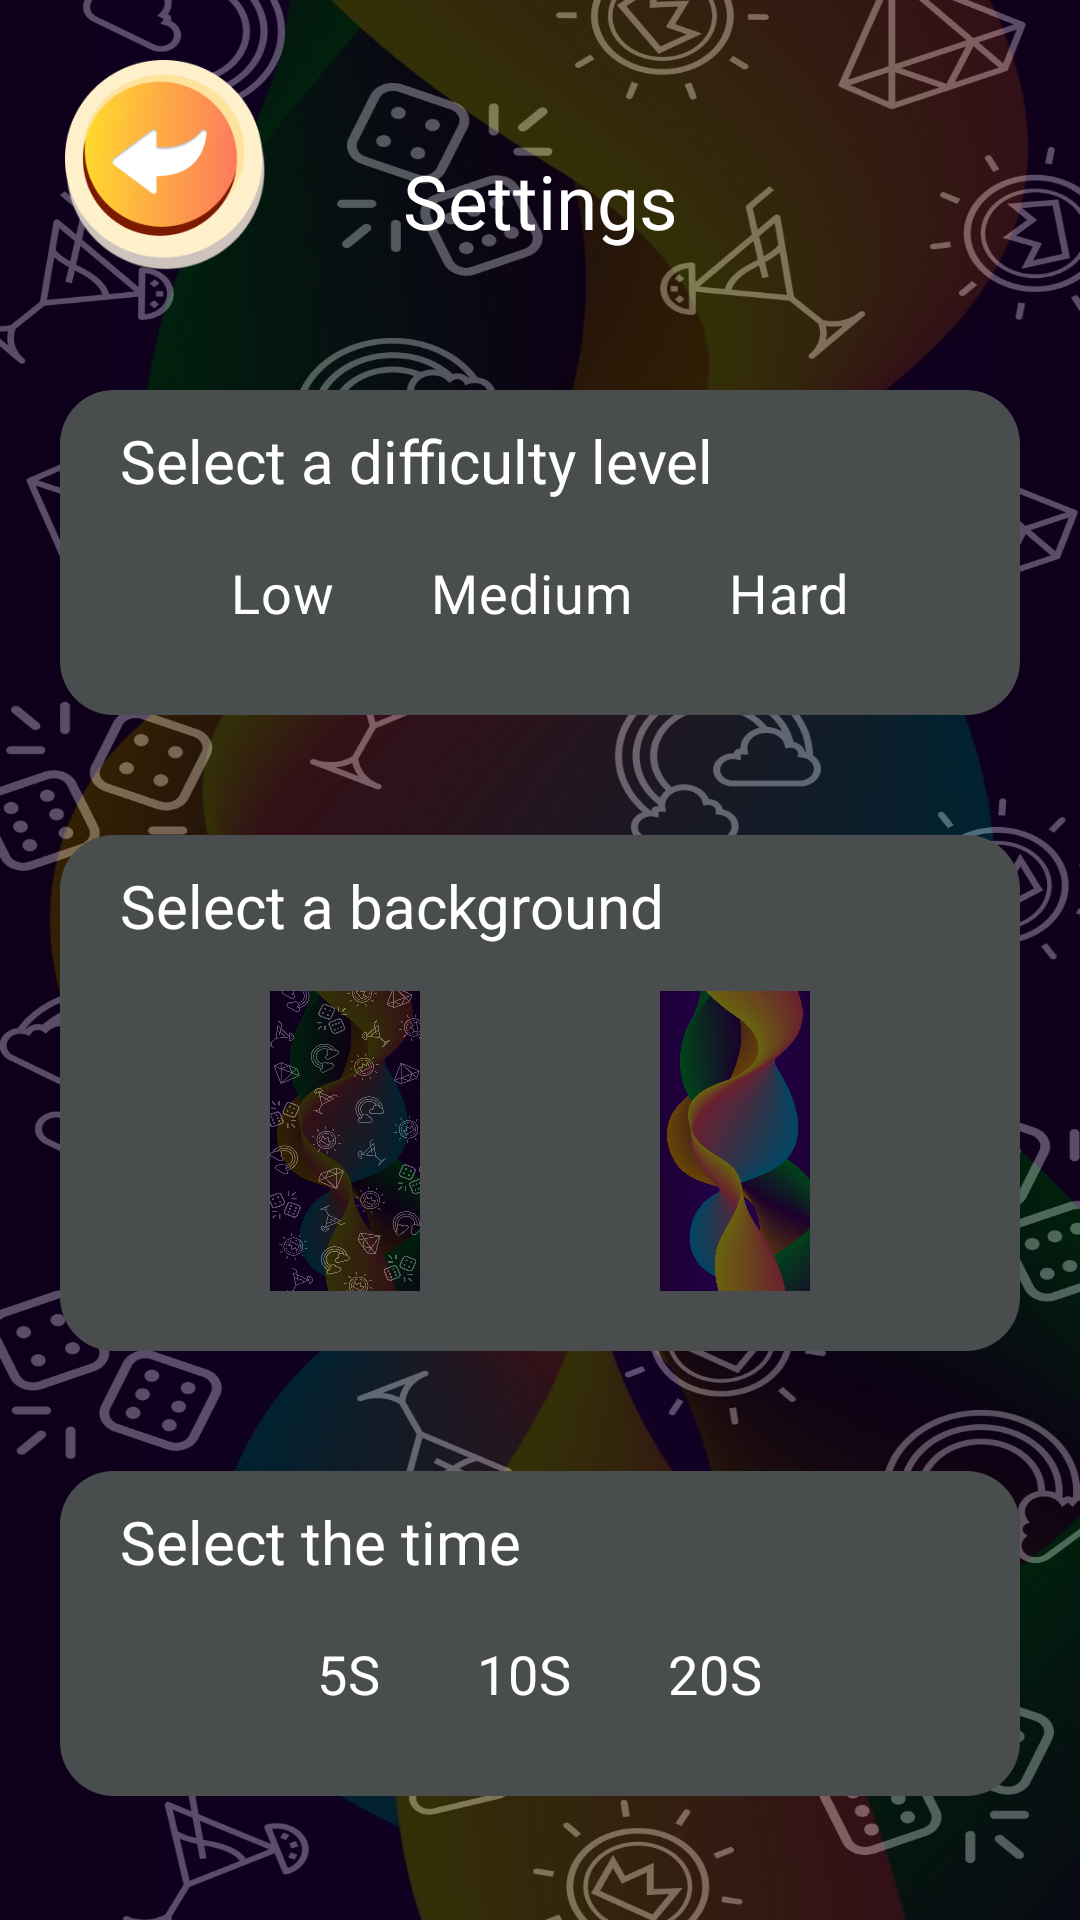

Named icons in this screenshot (1080 × 1920) and their centers, [x,y]:
back: [165,165]
